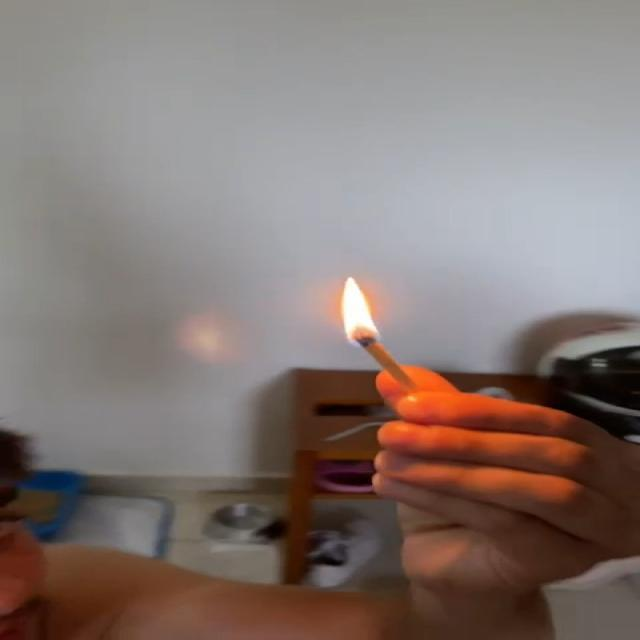fire: (334, 269, 384, 356)
